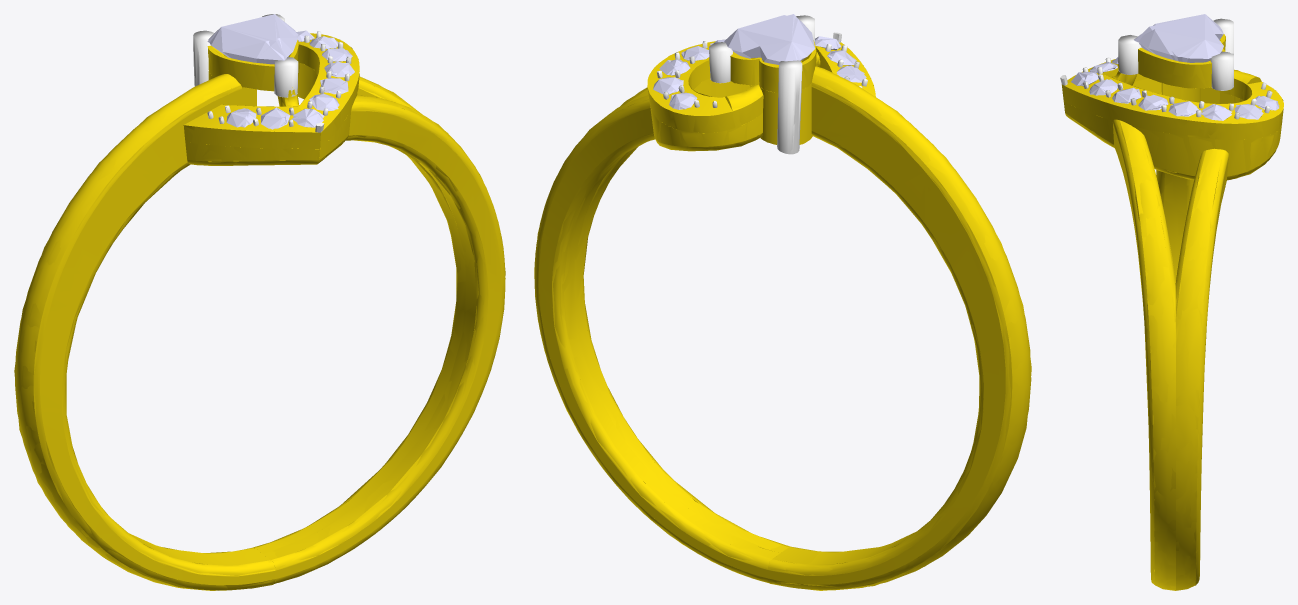
File: DLR-D000675701.glb
The picture shows the model from 3 angles, left to right: view 1: azimuth 30°, elevation 25°; view 2: azimuth 150°, elevation 25°; view 3: azimuth 270°, elevation 25°; orthographic projection. The views are drawn at different scales.
Visible parts, largest first — view 1: highPolyMesh, lowPolyMesh; view 2: highPolyMesh, lowPolyMesh; view 3: highPolyMesh, lowPolyMesh.
Boxes of the visible parts, left/top/right/bottom form: highPolyMesh: left=15, top=14, right=505, bottom=590; lowPolyMesh: left=14, top=14, right=505, bottom=590; highPolyMesh: left=534, top=15, right=1031, bottom=590; lowPolyMesh: left=534, top=14, right=1031, bottom=590; highPolyMesh: left=1060, top=14, right=1283, bottom=590; lowPolyMesh: left=1060, top=14, right=1283, bottom=589.
Bounding box in the file's own units: 0.0202 × 0.0221 × 0.00831.
